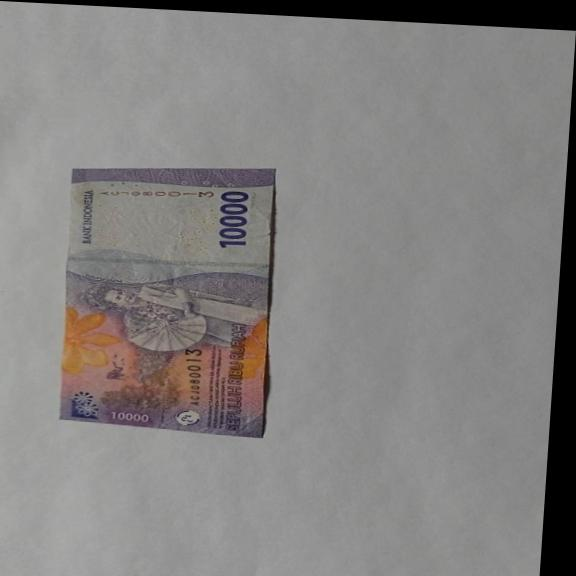Kertas: (53, 157, 283, 438), (214, 189, 252, 250)
